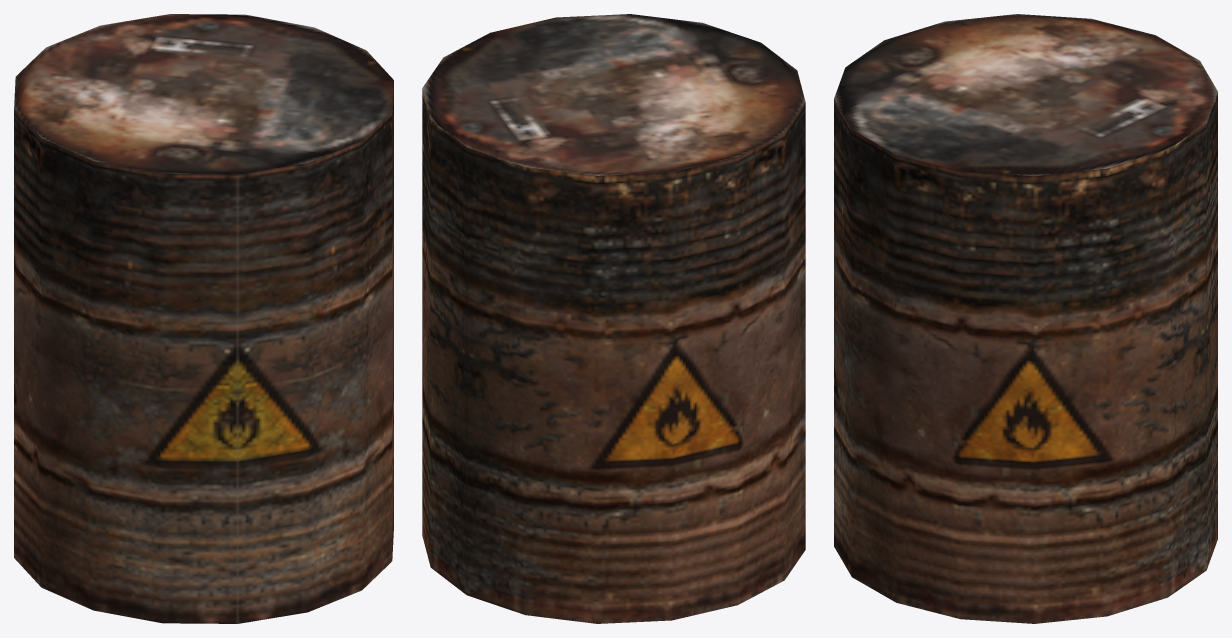
The model's file is Oil_BarrelA.fbx.
The picture shows the model from 3 angles, left to right: view 1: azimuth 30°, elevation 25°; view 2: azimuth 150°, elevation 25°; view 3: azimuth 270°, elevation 25°; orthographic projection.
Parts seen in each view (by area): view 1: Oil_BarrelA; view 2: Oil_BarrelA; view 3: Oil_BarrelA.
Part boxes in pixels (x1,y1,x2,y2): Oil_BarrelA: (14,14,393,623); Oil_BarrelA: (422,14,805,623); Oil_BarrelA: (834,14,1217,623).
Bounding box in the file's own units: 119 × 153 × 119.
